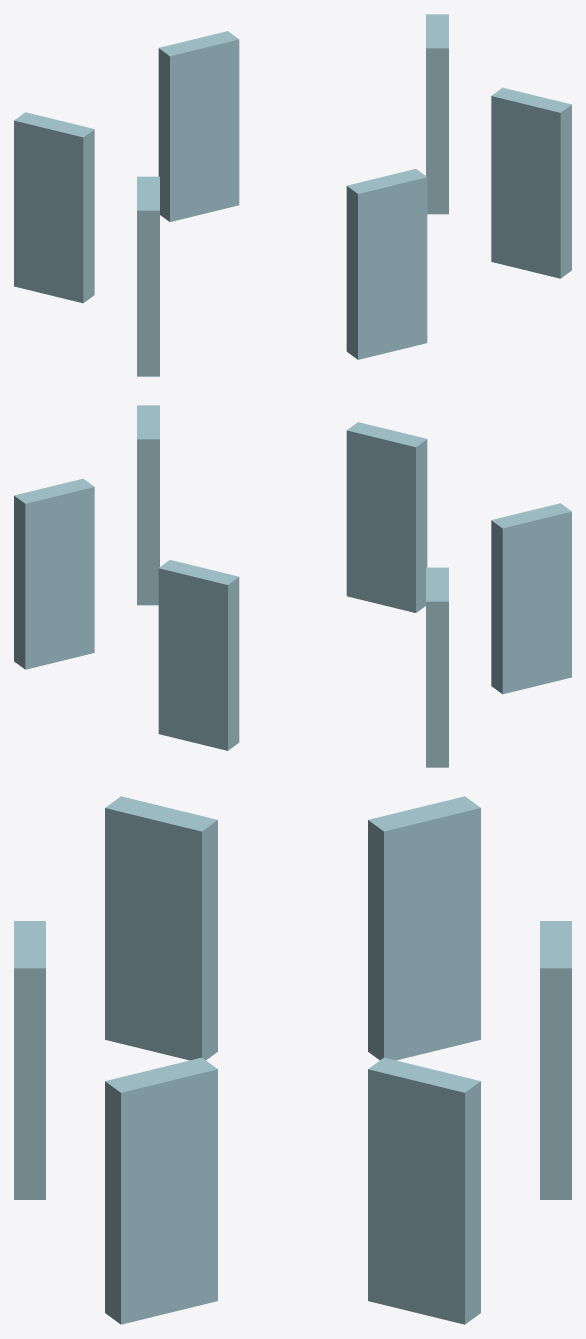
The model's file is waystone_glow.glb.
3 views of the same model, one above another, from view 1: azimuth 30°, elevation 25°; view 2: azimuth 150°, elevation 25°; view 3: azimuth 270°, elevation 25° (orthographic). The views are drawn at different scales.
Parts seen in each view (by area): view 1: geometry_0; view 2: geometry_0; view 3: geometry_0.
Part boxes in pixels (<box>): geometry_0: <box>14,14,571,376</box>; geometry_0: <box>14,405,571,767</box>; geometry_0: <box>14,796,571,1324</box>.
Size of the model in its own units: 0.878 by 0.32 by 0.698.
